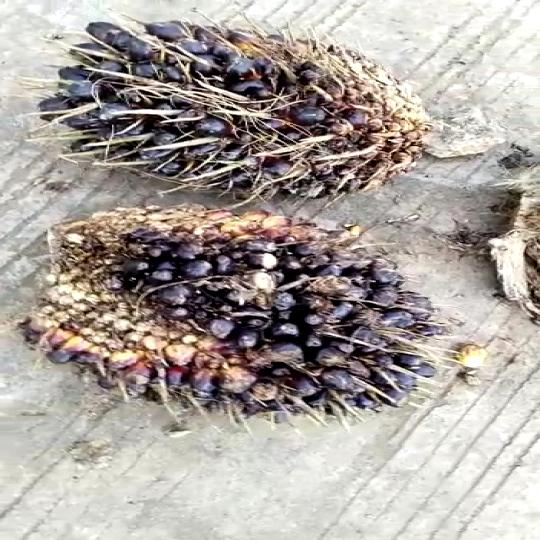mentah: (0, 195, 508, 456), (13, 0, 454, 226)
